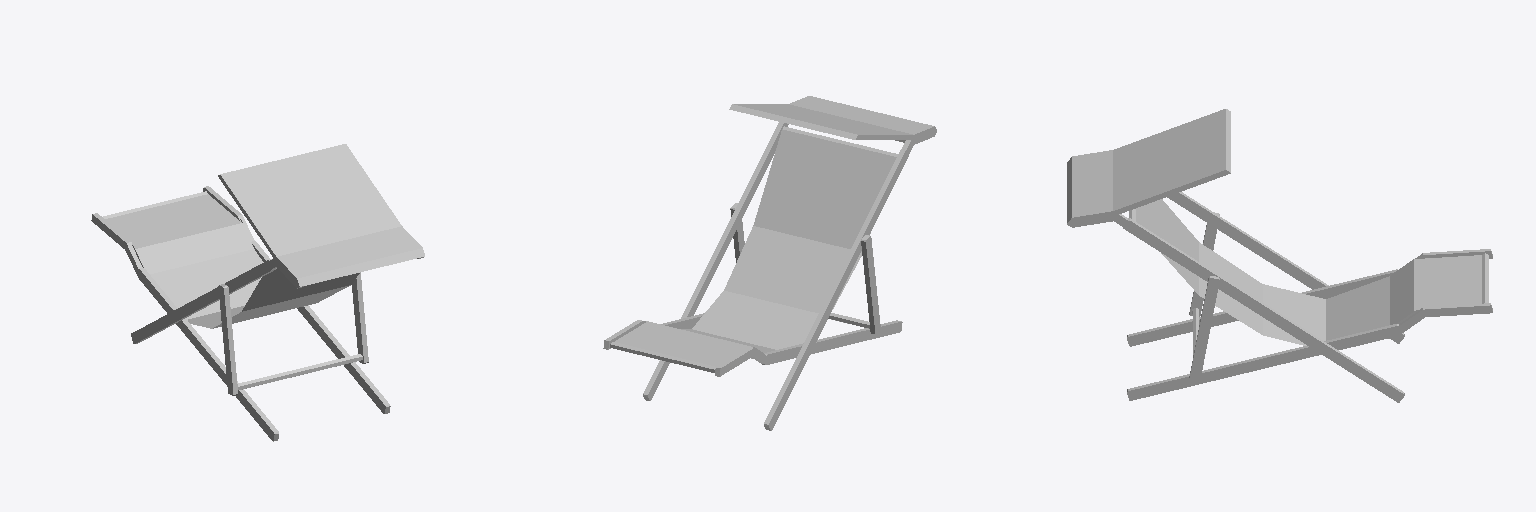
The model's file is sdraia.obj.
The picture shows the model from 3 angles: view 1: azimuth 30°, elevation 25°; view 2: azimuth 150°, elevation 25°; view 3: azimuth 270°, elevation 25°; orthographic projection.
Parts seen in each view (by area): view 1: Cube.000_Cube.002; view 2: Cube.000_Cube.002; view 3: Cube.000_Cube.002.
Boxes of the visible parts, box(x1,y1,x2,y2) form: Cube.000_Cube.002: box(91, 144, 424, 441); Cube.000_Cube.002: box(603, 96, 936, 430); Cube.000_Cube.002: box(1067, 109, 1492, 402).
Size of the model in its own units: 0.8317 by 1.37 by 2.27.